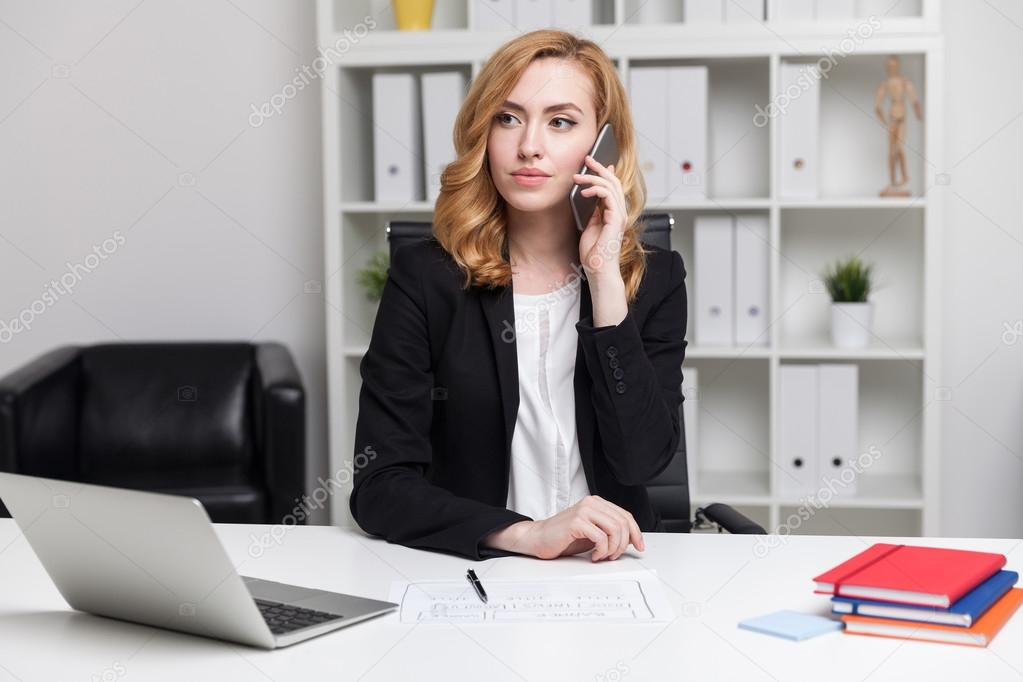phone: (569, 125, 631, 240)
talk: (479, 95, 654, 275)
